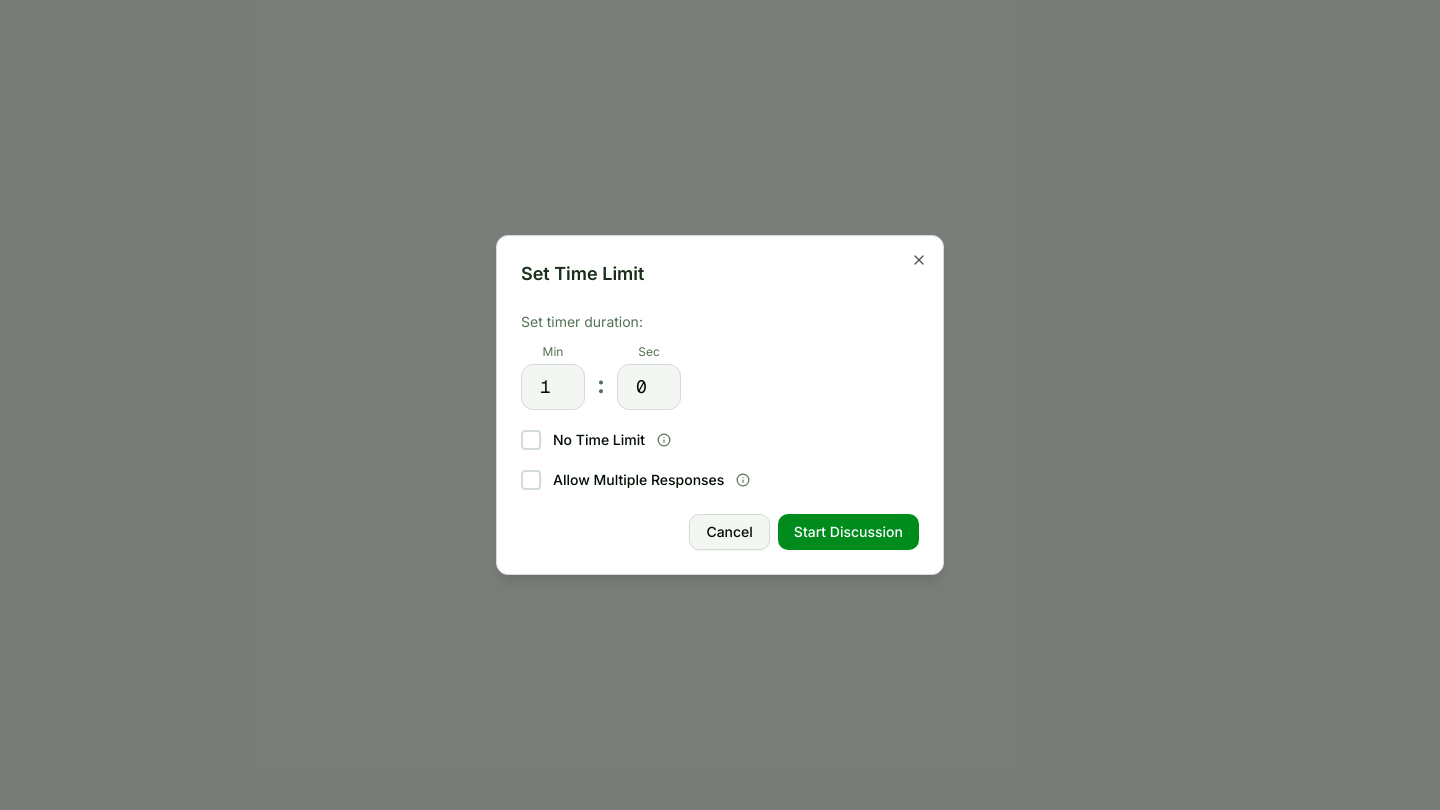
Test case: StartDiscussionDialog Multiple Responses [US 1.30] › Toggle interaction › [US 1.30][CT6] success: response limit input appears when limit checkbox is checked
Click the checkbox with test id "allow-multiple-responses-checkbox".
click(636, 480)  # box [521, 470, 750, 490]
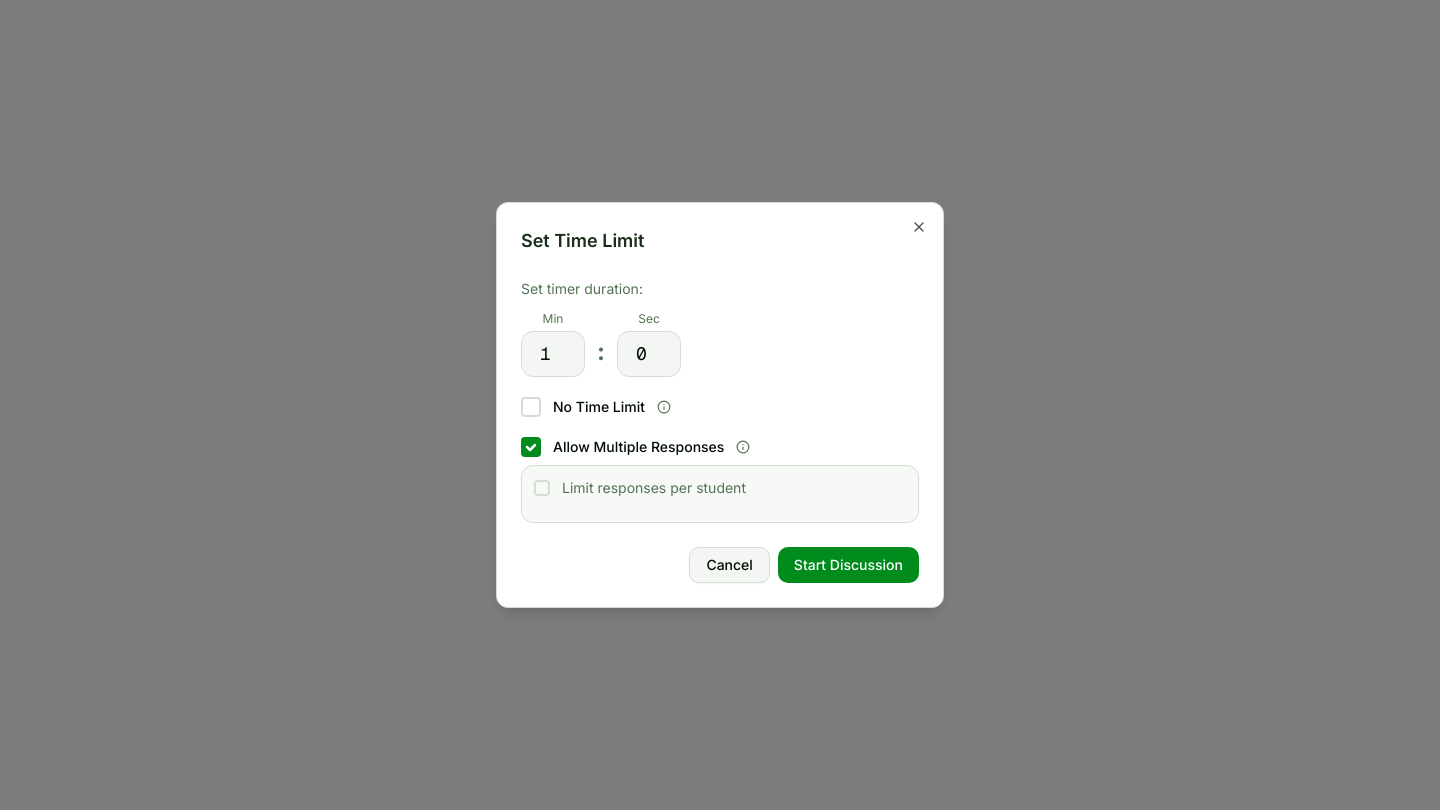
Click the checkbox with test id "response-limit-checkbox".
click(640, 488)  # box [534, 479, 746, 496]
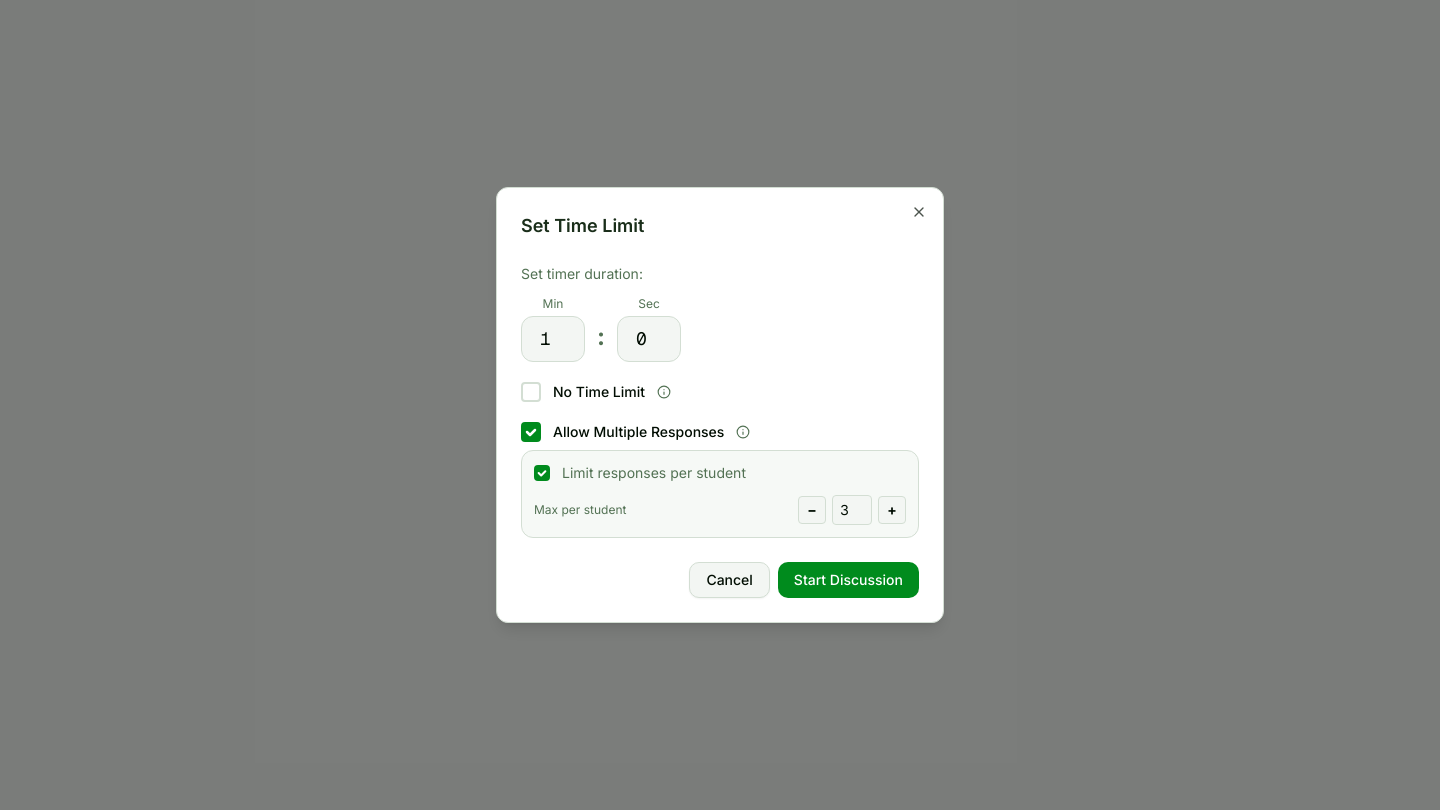
Result: the number field with test id "response-limit-input" is shown at [832, 495, 872, 525]
